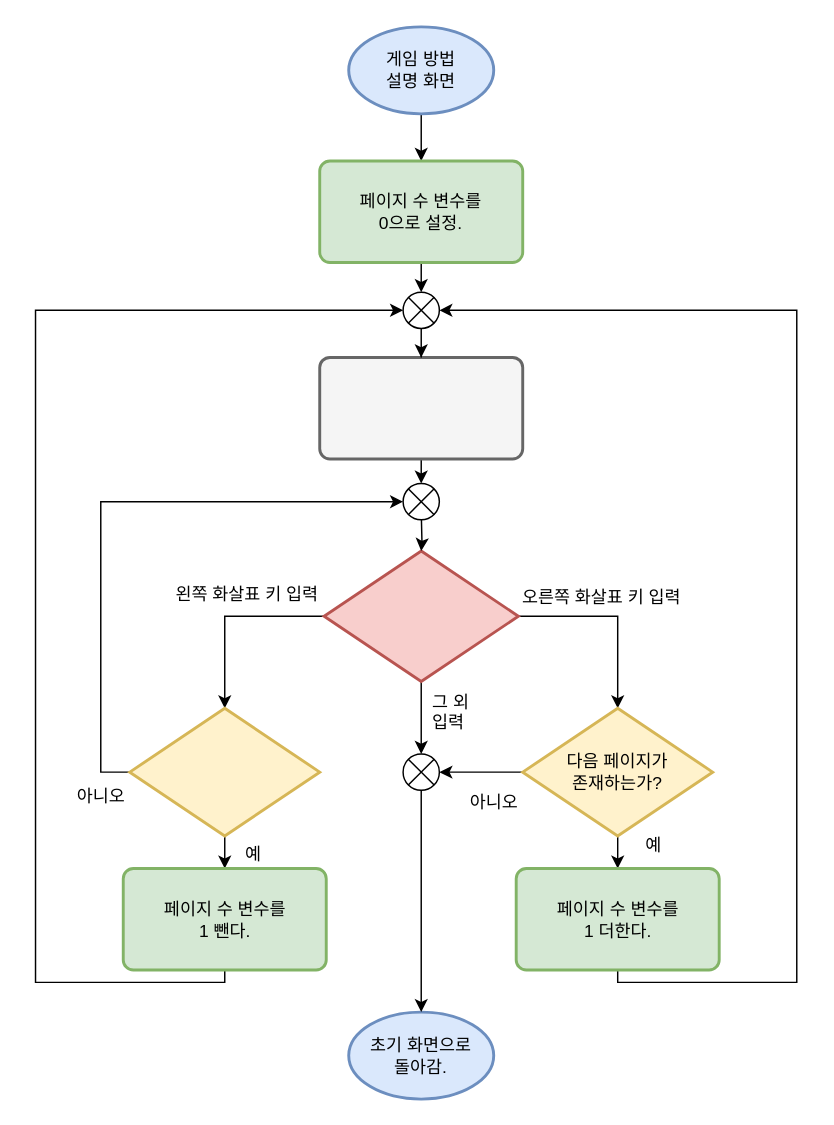
This 834x1125 diagram has some shape labels left out. Here are the shapes that lost their labels. From the top down, the box of each, then its label:
(318, 355, 523, 460): 현재 페이지 변수에 맞는 화면을 출력.
(322, 549, 519, 682): 사용자에게 키를 입력받음.
(128, 706, 320, 837): 전 페이지가 존재하는가?
